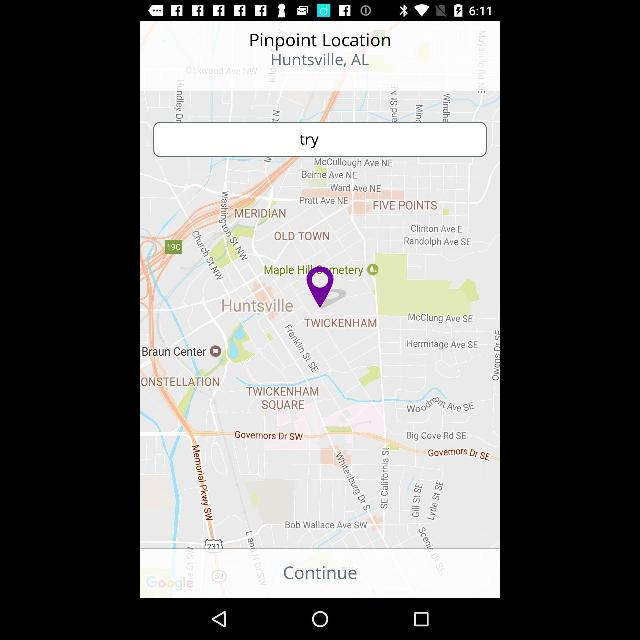icon: (209, 610, 227, 628), (311, 610, 329, 628), (413, 610, 429, 628)
input: (153, 122, 487, 158)
map: (140, 92, 500, 548)
panel: (140, 598, 500, 638)
text: (250, 32, 392, 68), (282, 565, 358, 581), (301, 134, 321, 148)
textbutton: (140, 550, 500, 598)
uppertaskbar: (141, 1, 499, 22)
